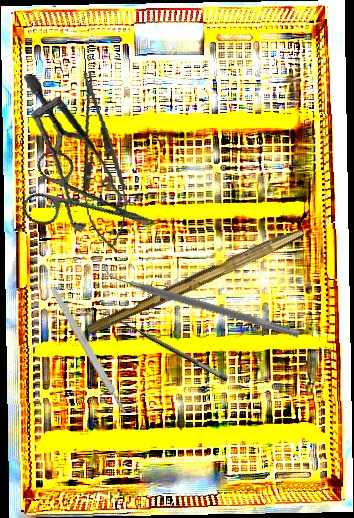Hook Surgical: (97, 306, 230, 392)
Iris Scissors: (17, 146, 167, 262)
Needle Holder: (65, 67, 136, 254)
Scalpel Handle: (86, 221, 305, 340), (49, 286, 129, 416)
Spatula Surgical: (100, 265, 303, 338)
Speculum: (8, 73, 143, 237)
